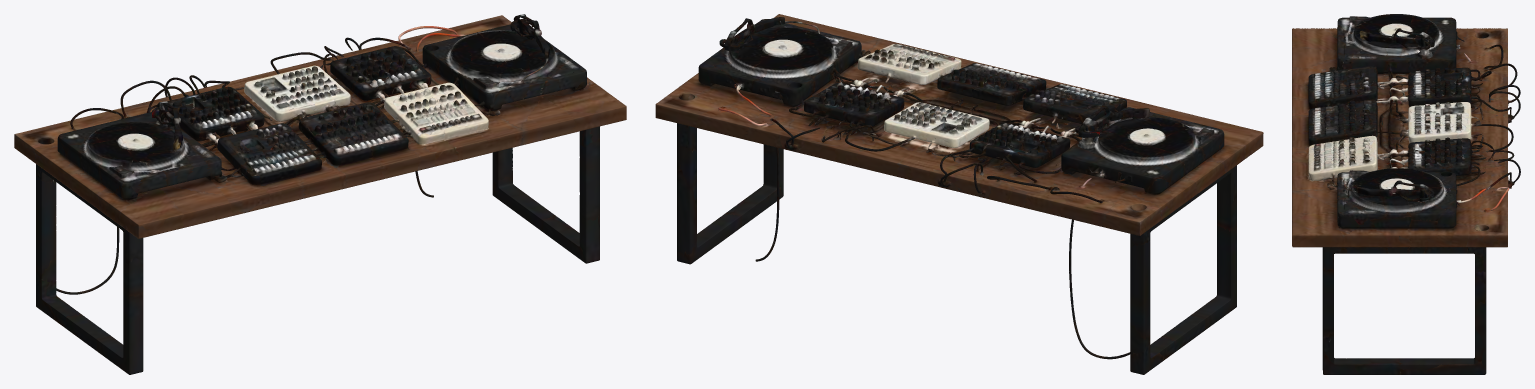
The model's file is Table_de_mixage.glb.
3 renders of one model, left to right at view 1: azimuth 30°, elevation 25°; view 2: azimuth 150°, elevation 25°; view 3: azimuth 270°, elevation 25°, orthographic. The views are drawn at different scales.
Bounding box in the file's own units: 1.9 × 0.792 × 0.8883.
Materials: 1 (1 with a texture image).
